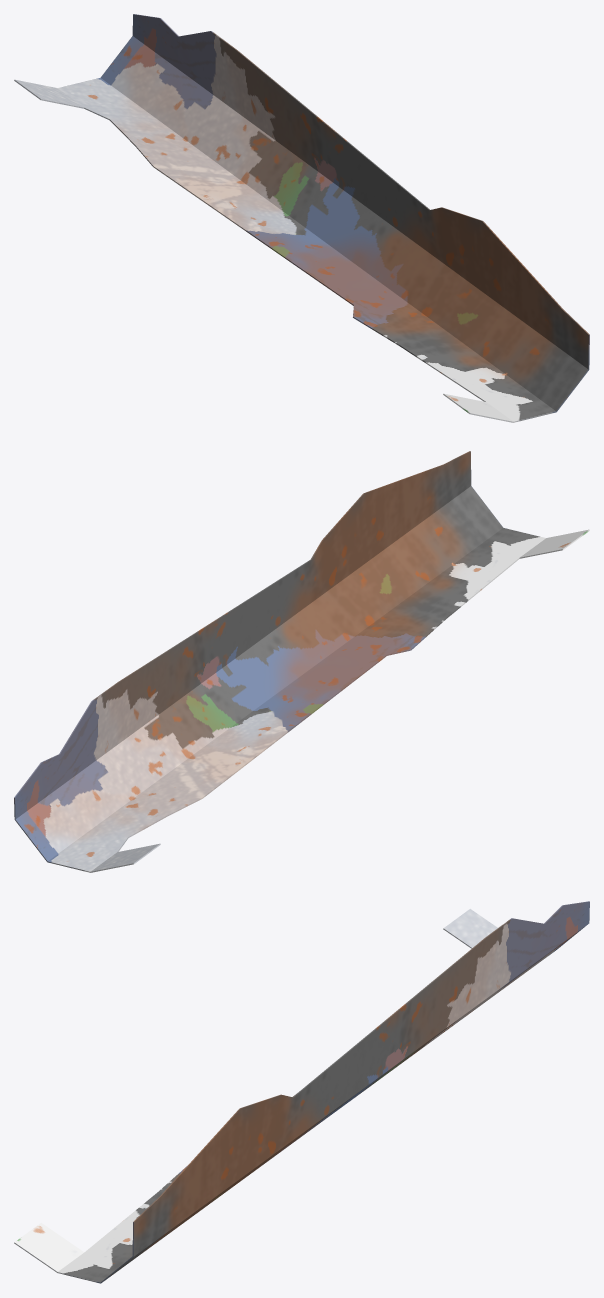
The model's file is m_TurbineBlade03.fbx.
The picture shows the model from 3 angles, top to bottom: view 1: azimuth 30°, elevation 25°; view 2: azimuth 150°, elevation 25°; view 3: azimuth 330°, elevation 25°; orthographic projection.
Visible parts, largest first — view 1: TurbineBlade03; view 2: TurbineBlade03; view 3: TurbineBlade03.
Part boxes in pixels (left/top/right/bottom): TurbineBlade03: left=14, top=14, right=589, bottom=422; TurbineBlade03: left=14, top=451, right=589, bottom=872; TurbineBlade03: left=14, top=901, right=589, bottom=1283.
Bounding box in the file's own units: 0.3042 × 0.2544 × 2.
1 material, 1 textured.
